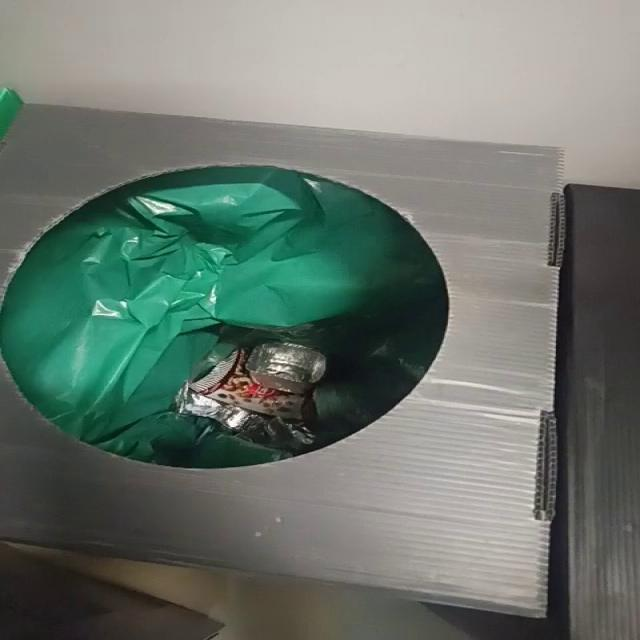Bin: (1, 104, 563, 618)
Metal: (177, 343, 327, 452), (177, 343, 327, 434)
